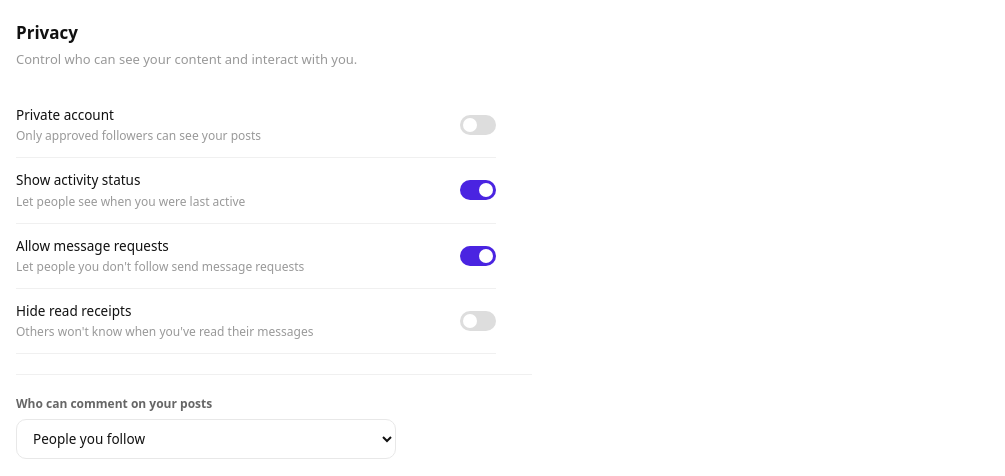
Test: PrivacySection › saves a toggle immediately and shows a success toast
Click the checkbox in the row of "Private account" at coordinates (478, 125), box [460,115,496,135]
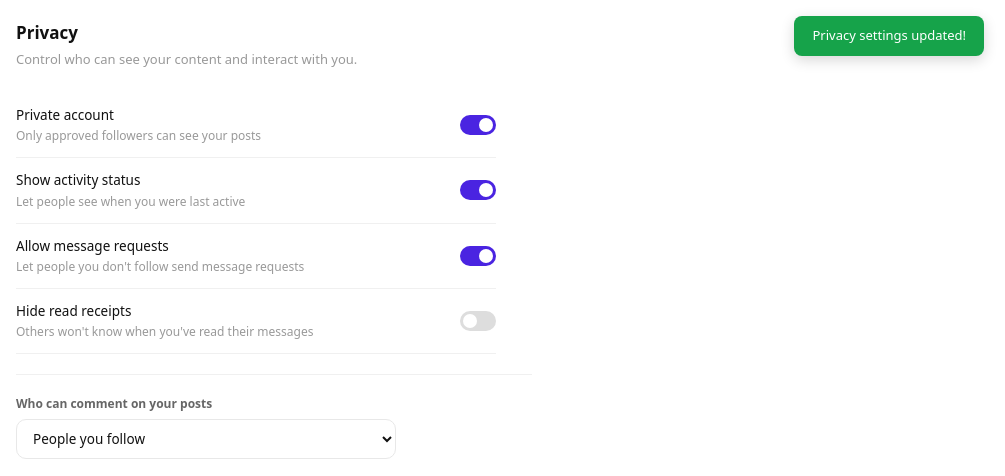
Check: the checkbox in the row of "Private account" is checked, box [460,115,496,135]
Check: the text "Privacy settings updated!" is shown, box [794,16,984,56]
